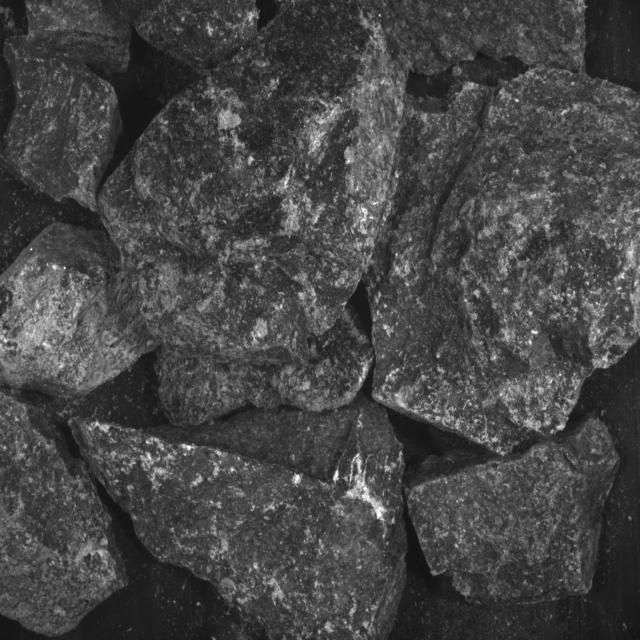Stones: (100, 3, 406, 363), (372, 69, 640, 455), (131, 3, 406, 333), (71, 398, 407, 640), (407, 417, 620, 604), (1, 392, 129, 637), (1, 224, 157, 398), (156, 309, 375, 427), (1, 37, 124, 211), (371, 1, 586, 77), (132, 1, 260, 74), (27, 1, 132, 74), (70, 529, 72, 531)
